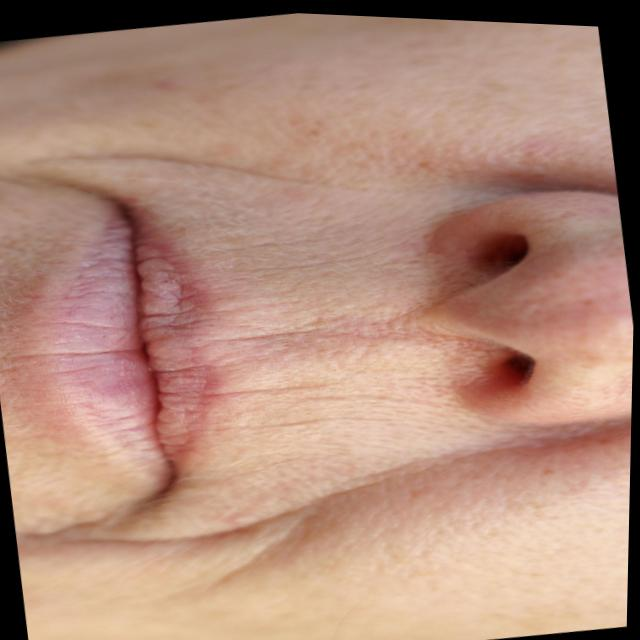Wrinkles: (20, 445, 482, 592), (20, 147, 396, 186)
